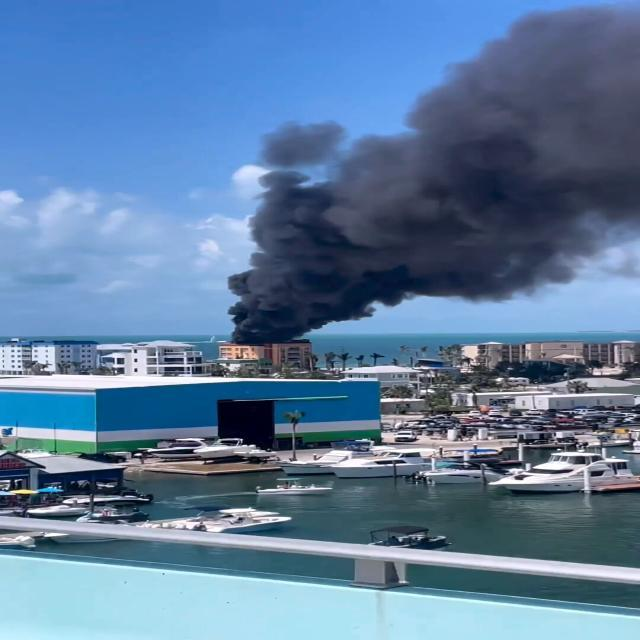Smoke: (421, 64, 618, 262), (253, 181, 395, 308)
